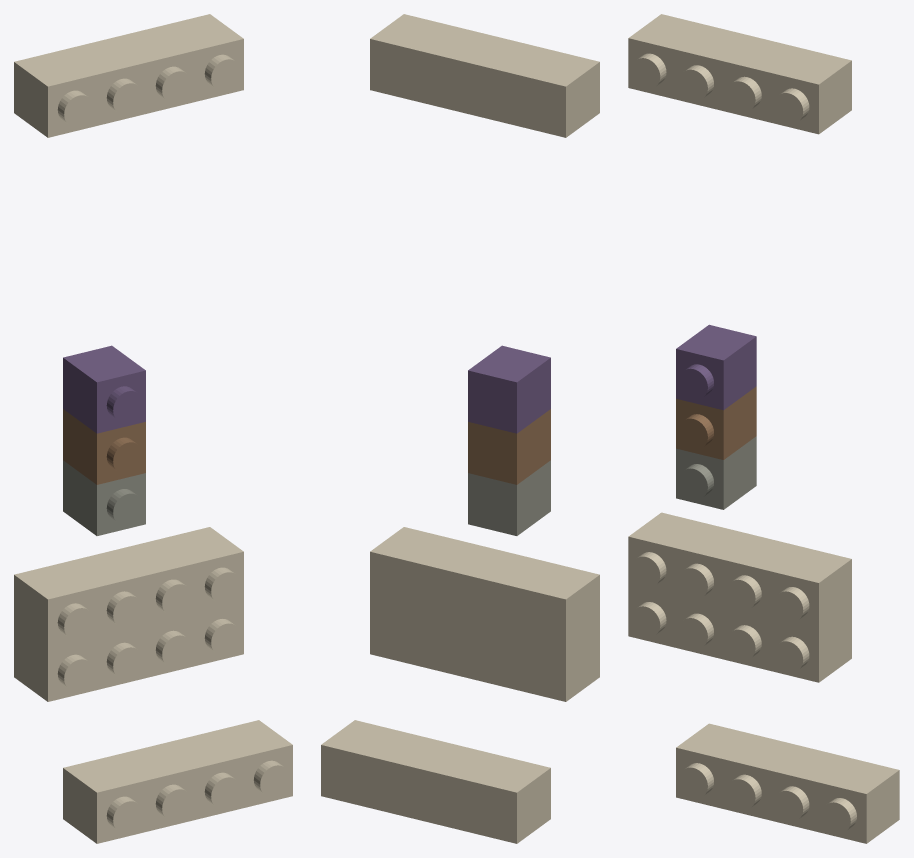
The model's file is current.glb.
3 renders of one model, left to right at view 1: azimuth 30°, elevation 25°; view 2: azimuth 150°, elevation 25°; view 3: azimuth 330°, elevation 25°, orthographic. The views are drawn at different scales.
Visible parts, largest first — view 1: world; view 2: world; view 3: world.
Boxes of the visible parts, x1=… form: world: x1=14, y1=14, x2=292, y2=843; world: x1=321, y1=14, x2=599, y2=843; world: x1=628, y1=14, x2=899, y2=843.
Bounding box in the file's own units: 40 × 120 × 11.4.
